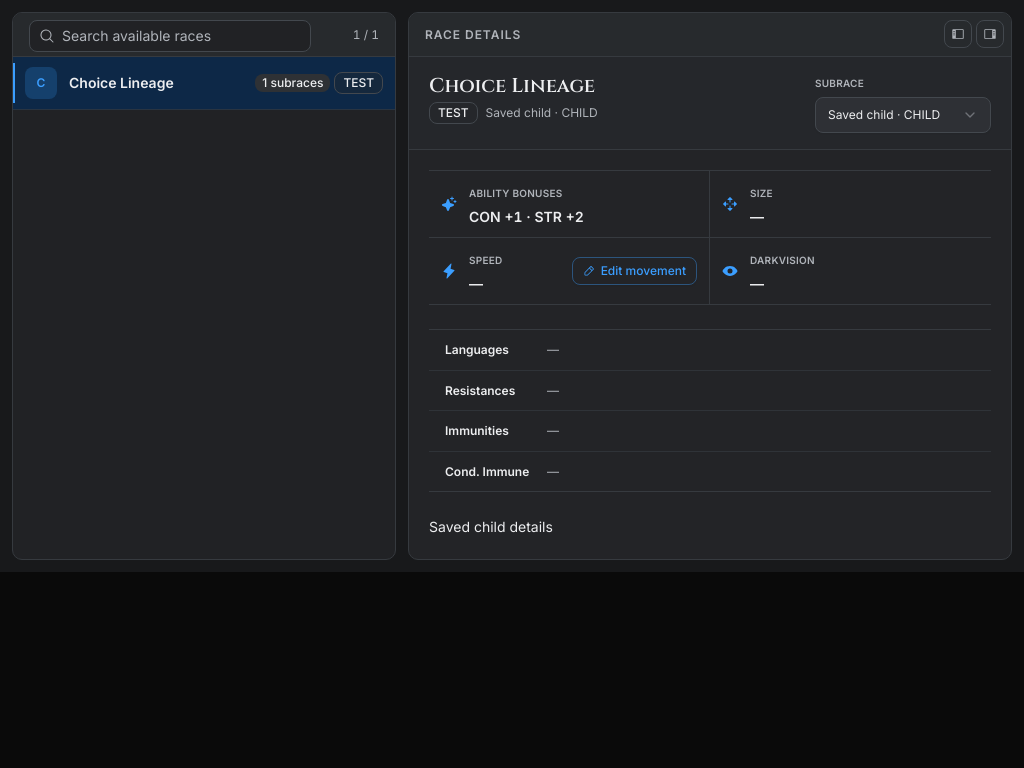
Test case: Race page summary › displays the exact saved selection when its child printing is filtered out
Check: the heading "Choice Lineage" is shown, box [429,73,598,98]
Check: the text "Saved child details" is shown, box [429,518,553,535]
What coordinates should you click on to do the following:
click the dropdown named "Subrace"
I would click on:
 (903, 115)
Its box is [815,97,991,133].
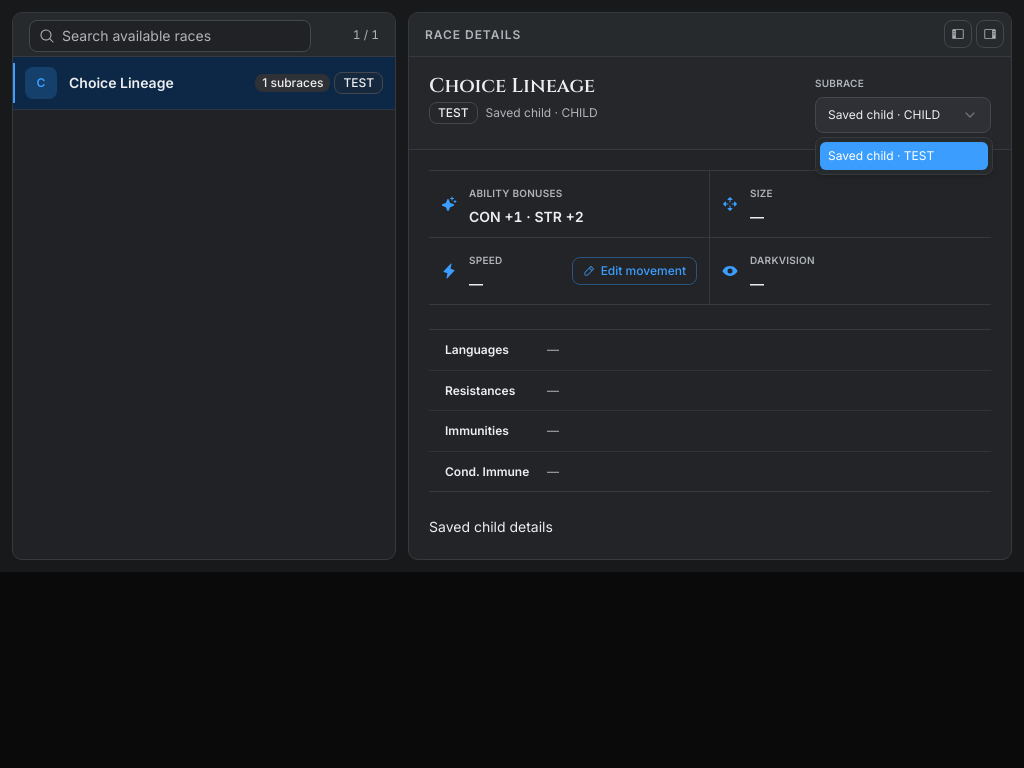
Check: the number of options is 1
What coordinates should you click on to do the following:
click the option "Saved child · TEST"
I would click on:
 (904, 156)
Its box is [820,142,988,170].
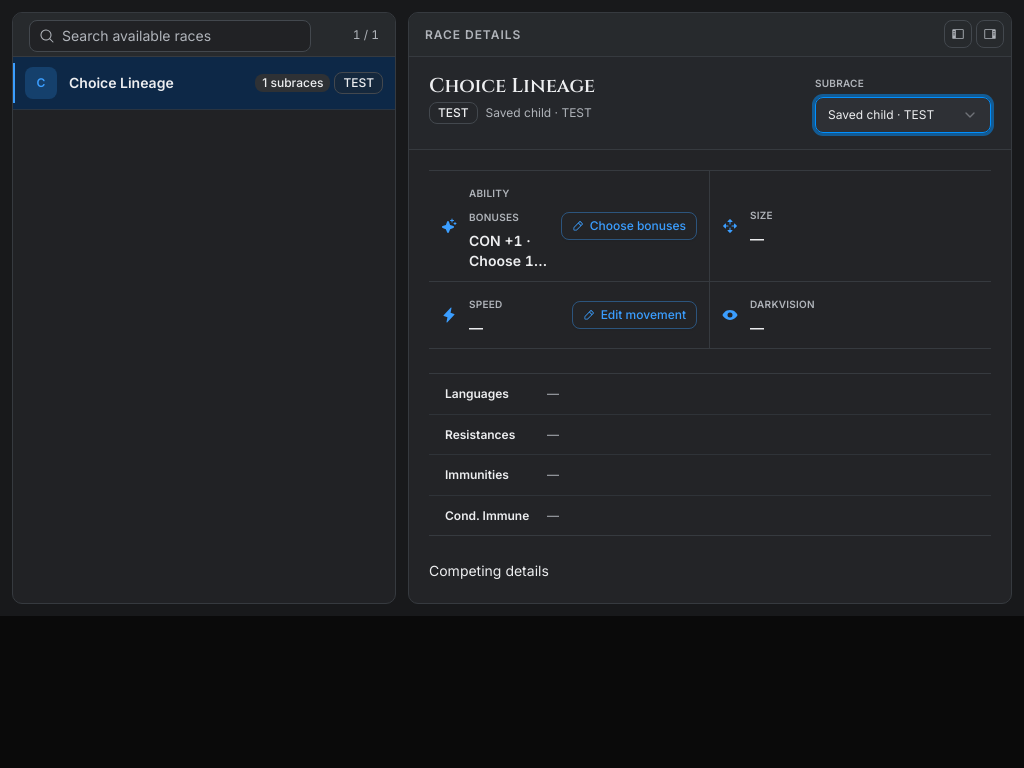
Check: the text "TEST" next to "subraces" is shown, box [343,75,374,90]
Check: the text "Competing details" is shown, box [429,562,549,579]
Check: the text "Saved child details" is gone
